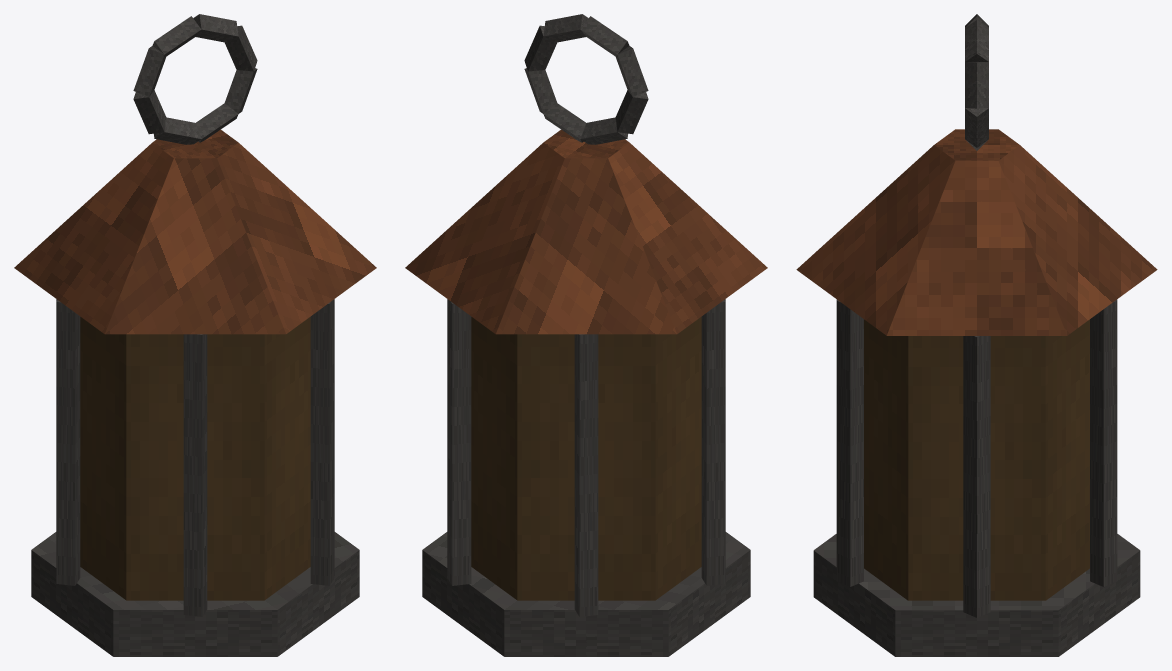
Rendered from LanternOut.glb.
3 renders of one model, left to right at view 1: azimuth 30°, elevation 25°; view 2: azimuth 150°, elevation 25°; view 3: azimuth 270°, elevation 25°, orthographic.
Parts seen in each view (by area): view 1: LanternOut; view 2: LanternOut; view 3: LanternOut.
Part boxes in pixels (x1,y1,x2,y2): LanternOut: (14,14,376,656); LanternOut: (405,14,767,656); LanternOut: (796,14,1157,656).
Bounding box in the file's own units: 0.186 × 0.3715 × 0.21.
1 material, 1 textured.
